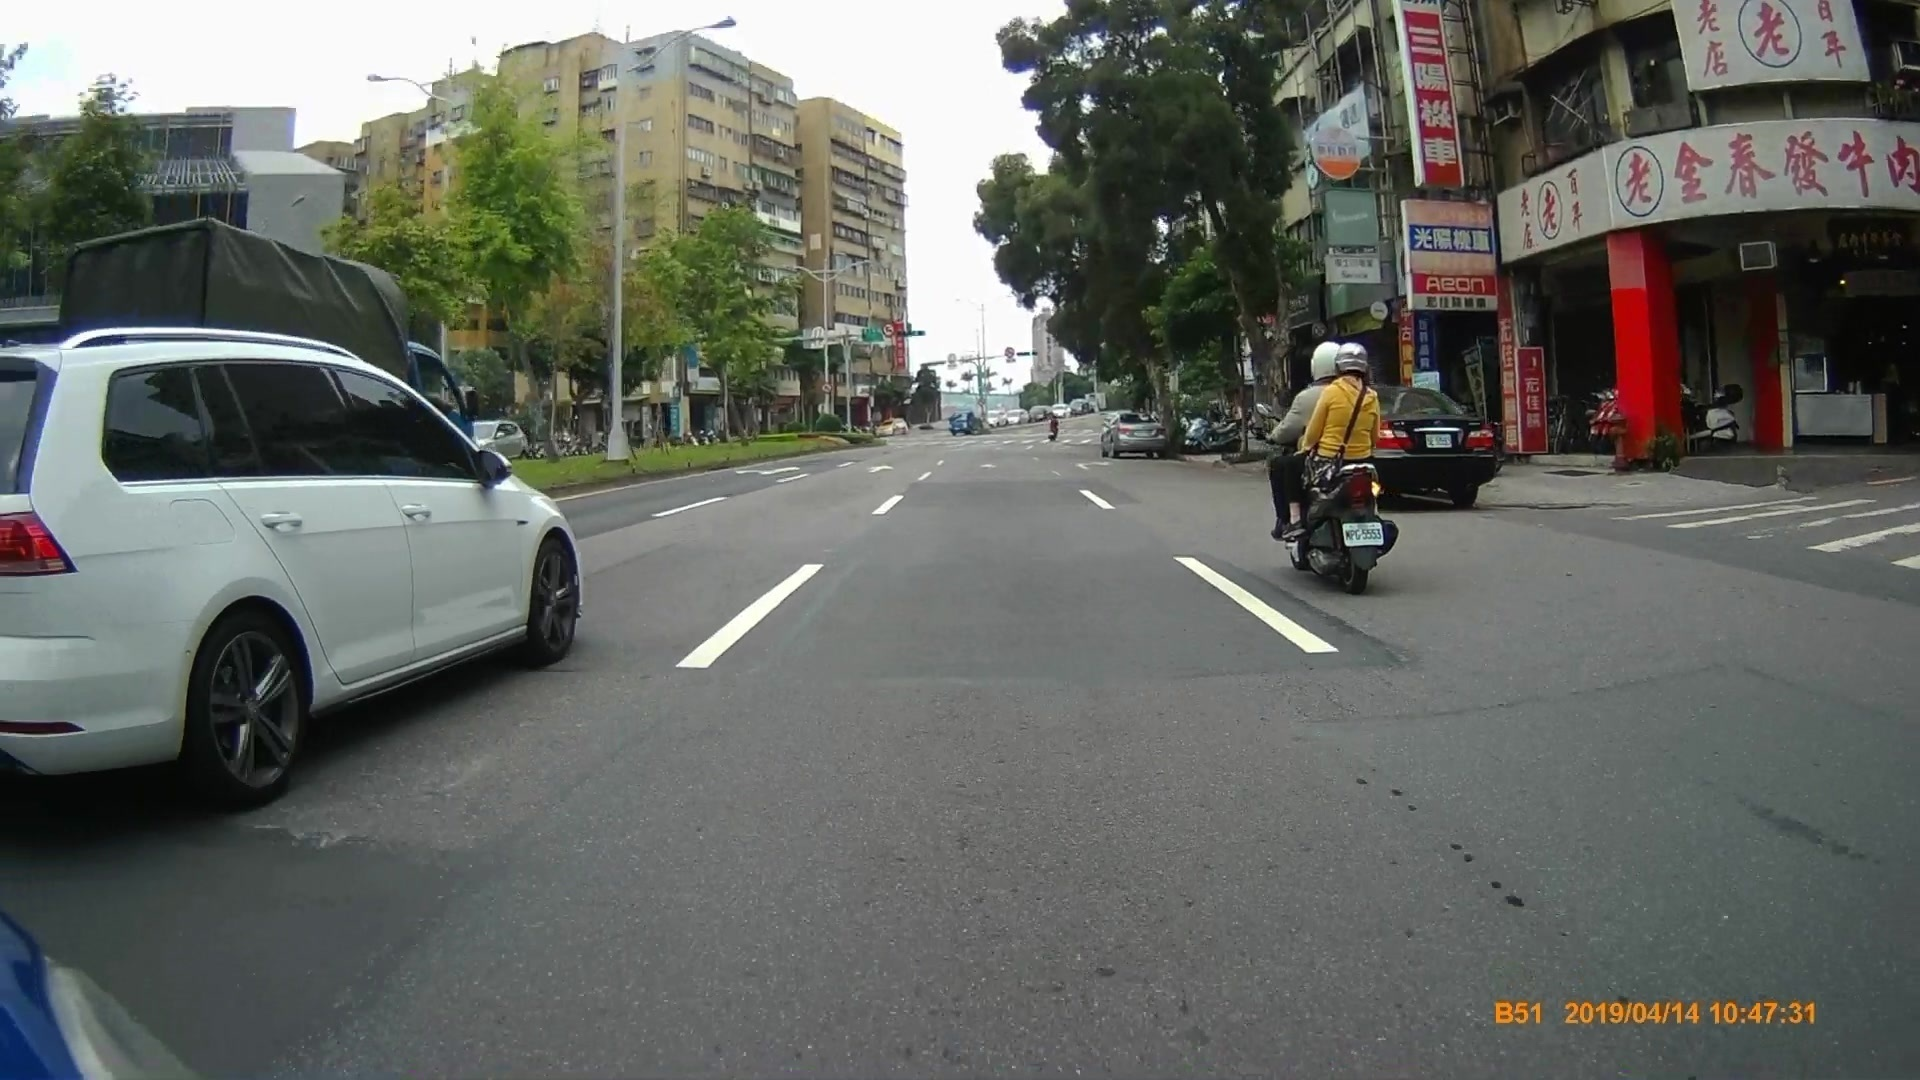License_plate: (1341, 521, 1386, 546), (1426, 431, 1458, 451)
